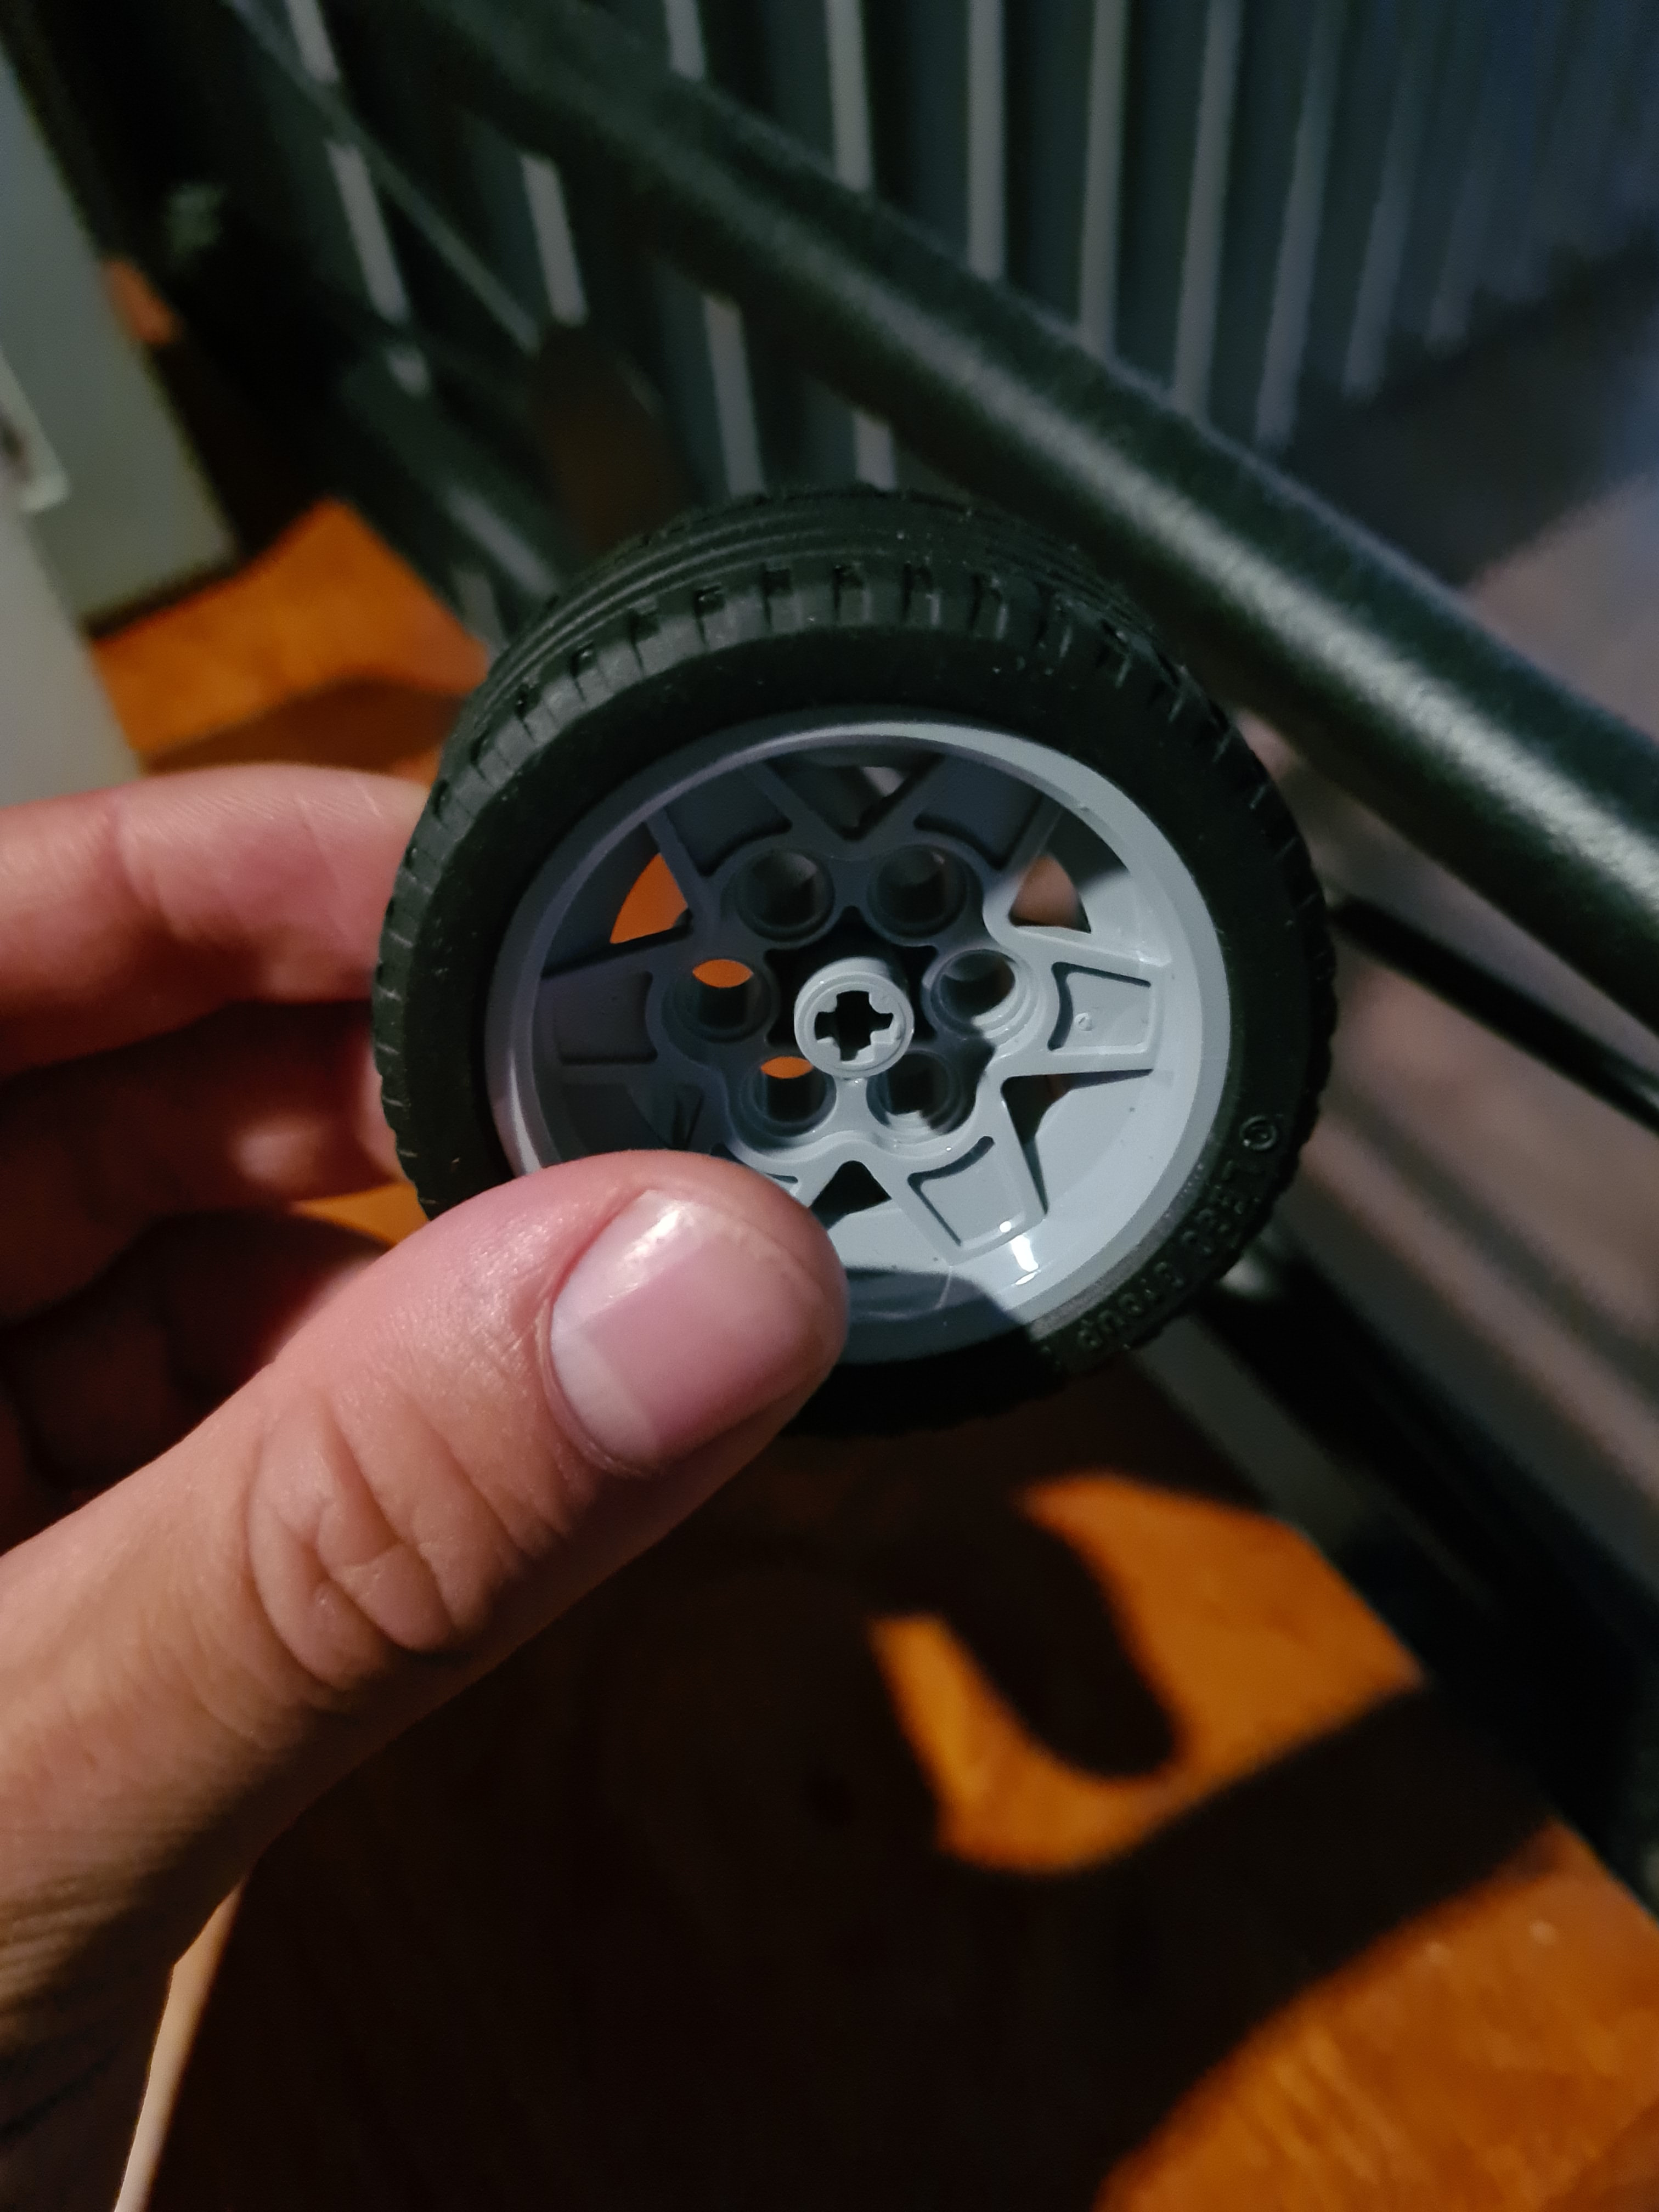Rad: (324, 456, 1359, 1460)
